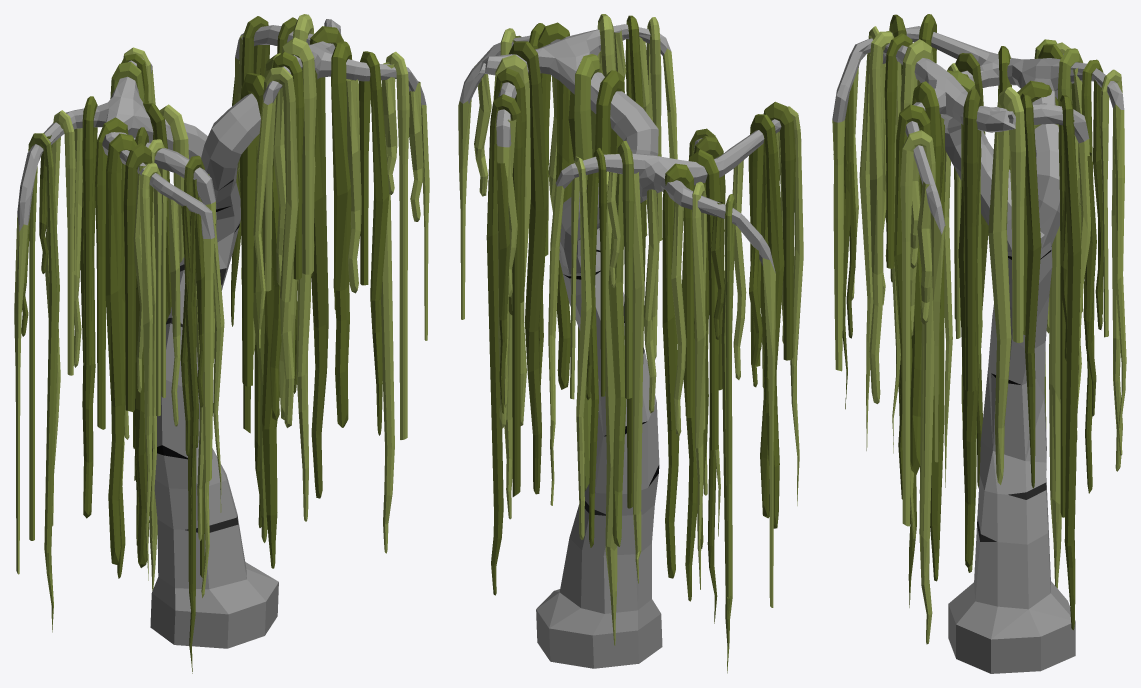
File: EA03_Nature_Tree_03c.fbx
3 renders of one model, left to right at view 1: azimuth 30°, elevation 25°; view 2: azimuth 150°, elevation 25°; view 3: azimuth 270°, elevation 25°, orthographic. The views are drawn at different scales.
Parts seen in each view (by area): view 1: EA03_Nature_Tree_03c_LOD0; view 2: EA03_Nature_Tree_03c_LOD0; view 3: EA03_Nature_Tree_03c_LOD0.
Boxes of the visible parts, left/top/right/bottom form: EA03_Nature_Tree_03c_LOD0: left=14, top=14, right=429, bottom=673; EA03_Nature_Tree_03c_LOD0: left=458, top=14, right=803, bottom=673; EA03_Nature_Tree_03c_LOD0: left=832, top=14, right=1126, bottom=673.
Size of what is drawn, in the model's own units: 7.49 by 11.8 by 5.03.
